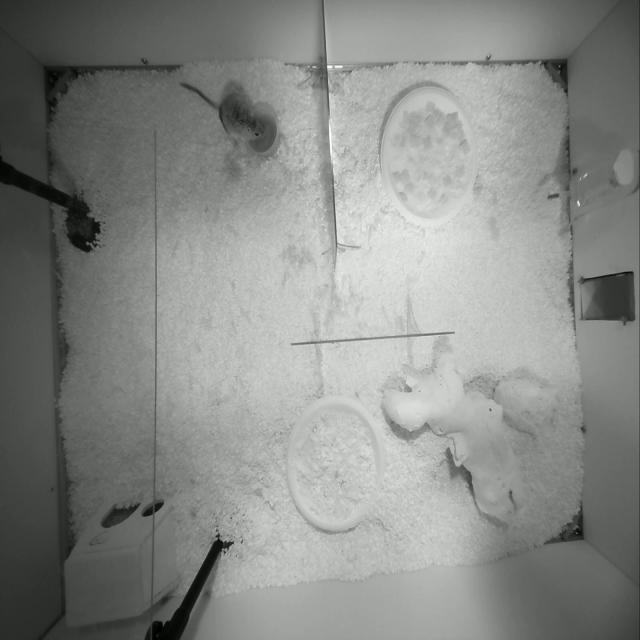adult_back: (181, 83, 264, 142)
